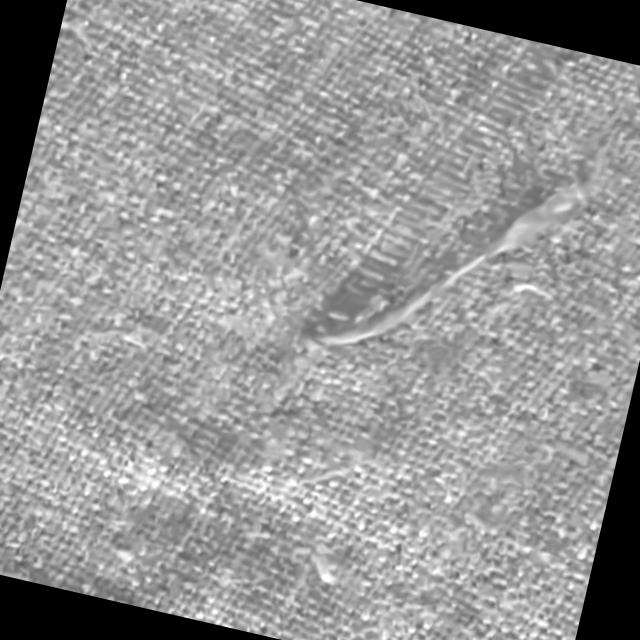Thread: (301, 120, 598, 400)
